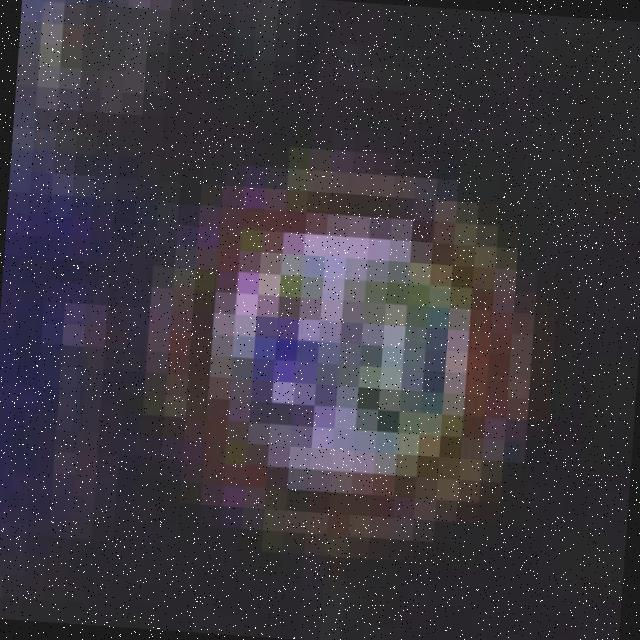Ograniczenie predkosci do 60: (86, 126, 614, 616)
